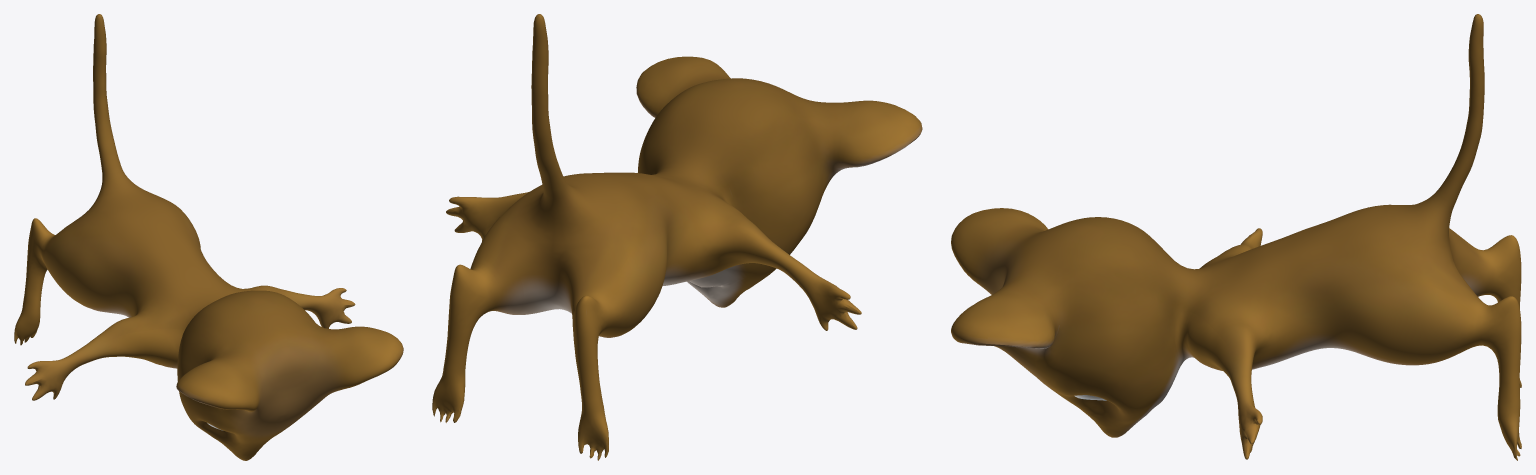
Rendered from mouse.gltf.
The picture shows the model from 3 angles, left to right: view 1: azimuth 30°, elevation 25°; view 2: azimuth 150°, elevation 25°; view 3: azimuth 270°, elevation 25°; orthographic projection. The views are drawn at different scales.
Visible parts, largest first — view 1: body; view 2: body; view 3: body.
Part boxes in pixels (x1,y1,x2,y2): body: (14, 14, 403, 460); body: (432, 14, 922, 460); body: (951, 14, 1521, 460).
Size of the model in its own units: 0.0237 by 0.0232 by 0.0284.
2 materials, 2 textured.
